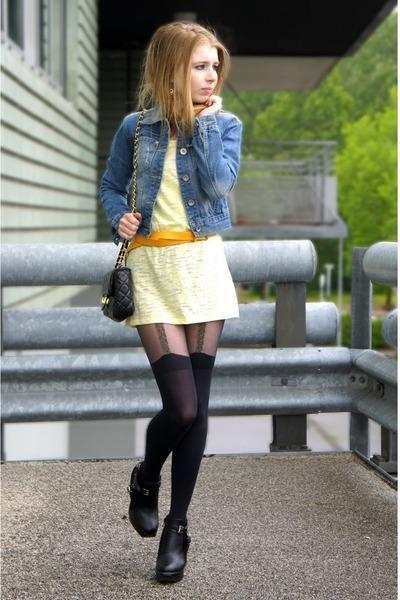bag: (102, 276, 135, 321)
jacket: (93, 97, 242, 240)
shirt: (156, 140, 188, 227)
shoe: (129, 506, 190, 585)
skirt: (121, 236, 242, 323)
